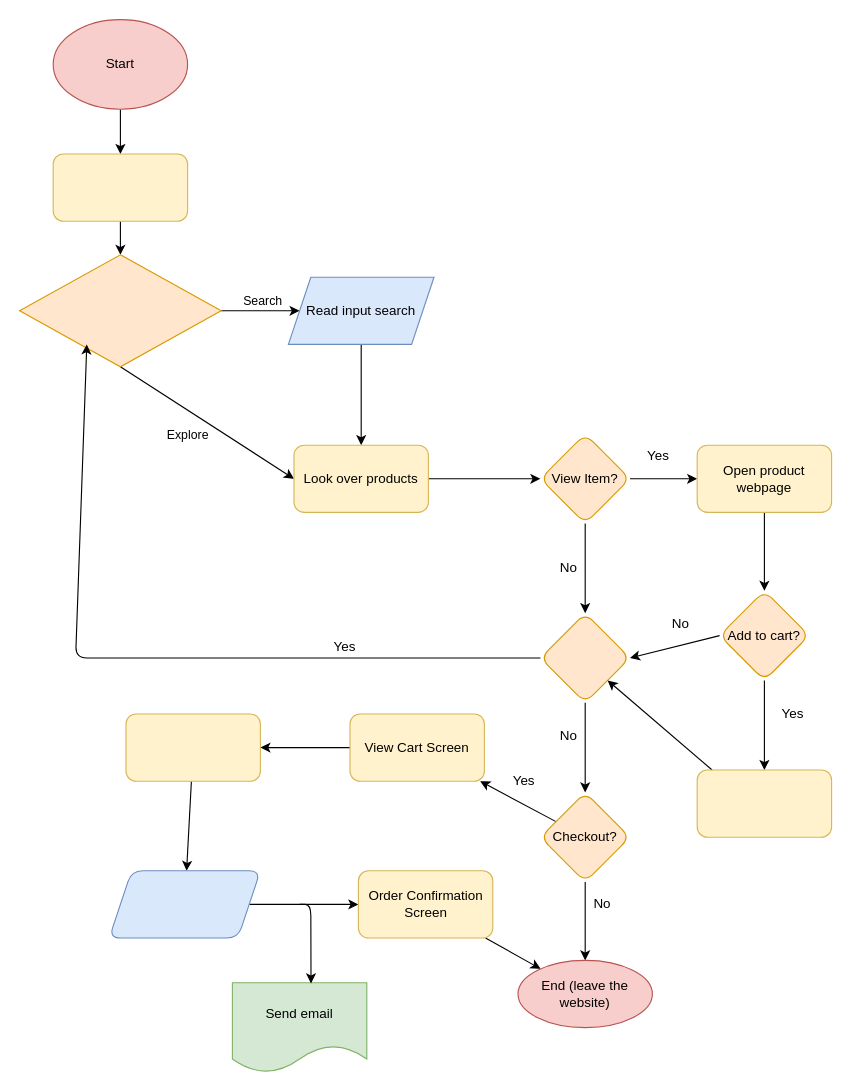
Some shapes in this 851 by 1092 pixel diagram are drawn without their labels. The box of each missing label's shape, as (x1, y1, x2, y2) in pixels:
Continue Shopping?: (539, 612, 630, 703)
Display added to cart confirmation: (696, 769, 832, 837)
Read in payment information: (108, 870, 260, 938)
Search or Explore products: (18, 254, 221, 367)
User enters the website: (52, 153, 188, 221)
View Payment Screen: (125, 713, 260, 781)
